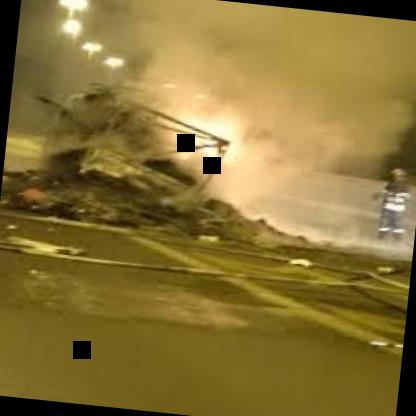fire: (56, 70, 274, 214)
